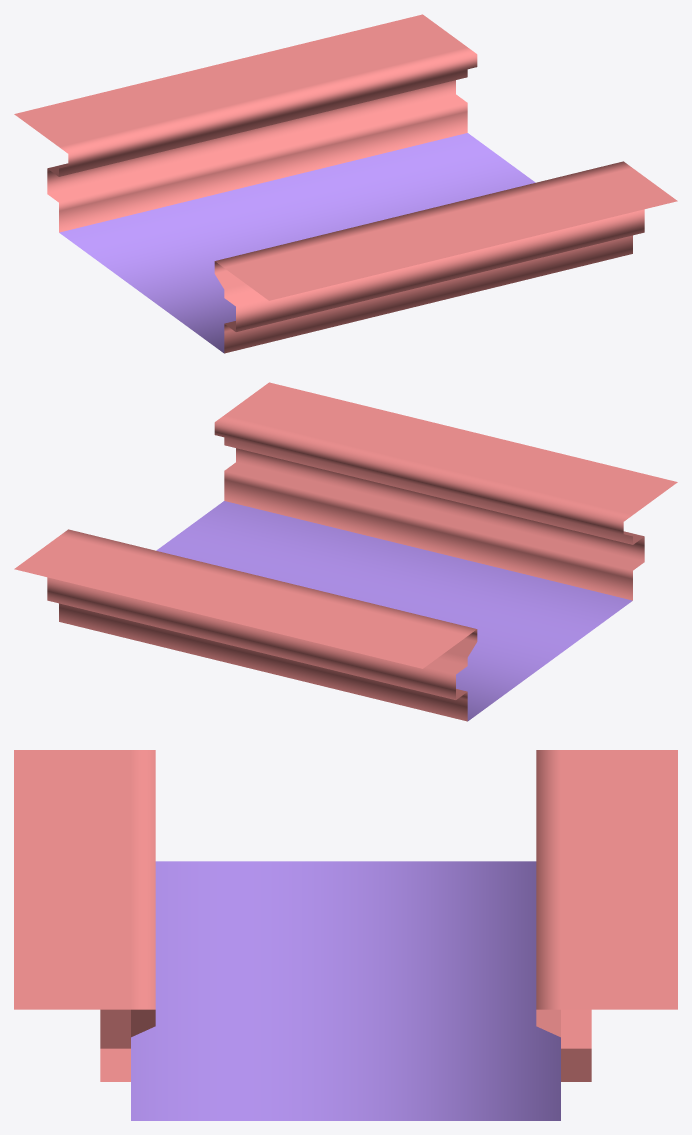
The model's file is Small_Tunnel_Platform.FBX.
3 views of the same model, one above another, from view 1: azimuth 30°, elevation 25°; view 2: azimuth 150°, elevation 25°; view 3: azimuth 270°, elevation 25° (orthographic). The views are drawn at different scales.
Parts seen in each view (by area): view 1: Small_Tunnel_Platform; view 2: Small_Tunnel_Platform; view 3: Small_Tunnel_Platform.
Boxes of the visible parts, left/top/right/bottom form: Small_Tunnel_Platform: left=14, top=14, right=677, bottom=353; Small_Tunnel_Platform: left=14, top=382, right=677, bottom=721; Small_Tunnel_Platform: left=14, top=750, right=677, bottom=1120.
Bounding box in the file's own units: 5 × 1 × 5.41.
